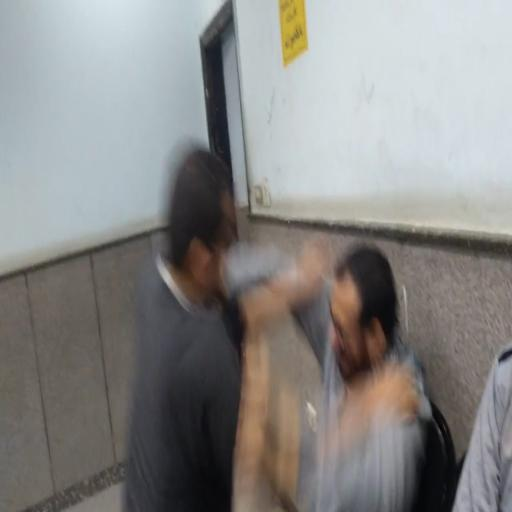violencia: (114, 137, 444, 512)
